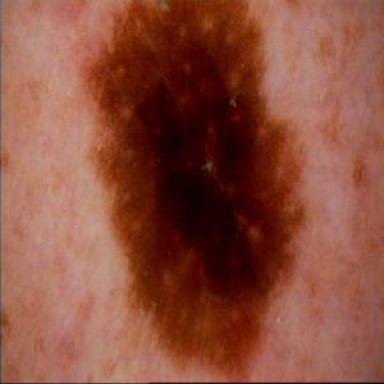Melanoma: (89, 1, 301, 375)
